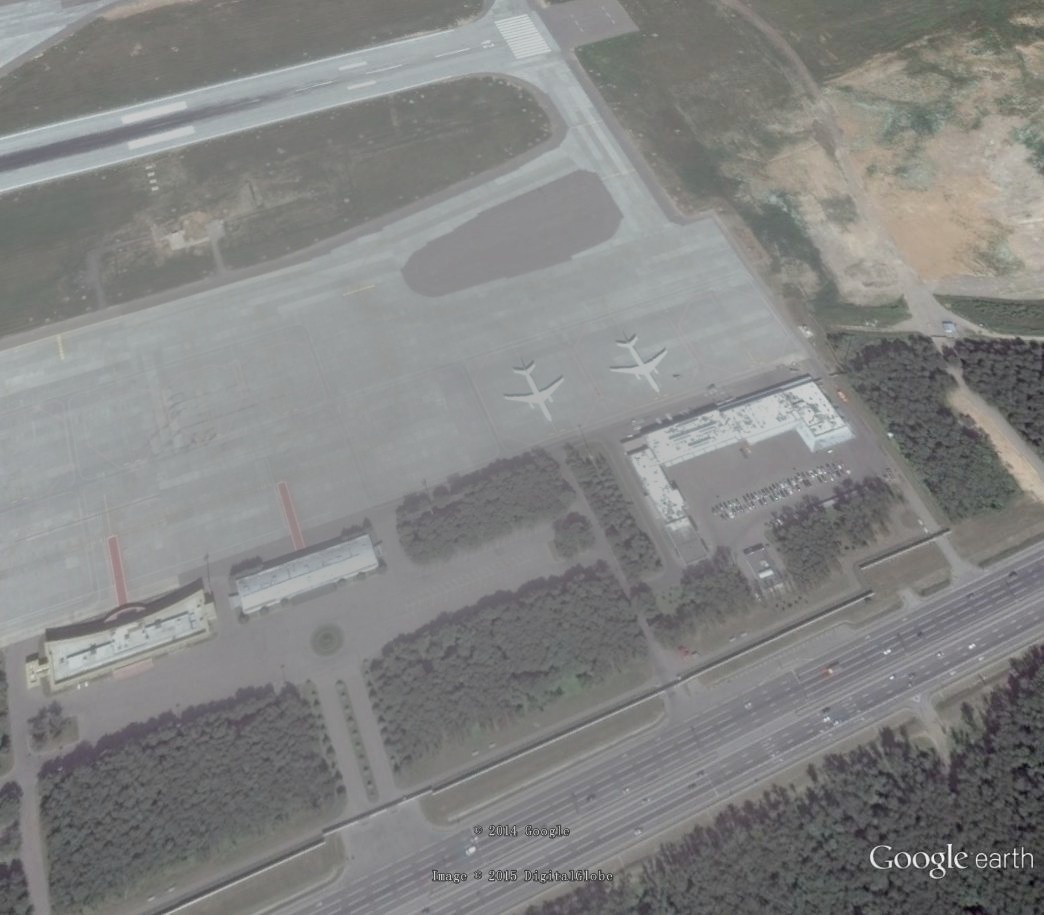aircraft: (503, 362, 566, 424), (608, 334, 670, 396)
